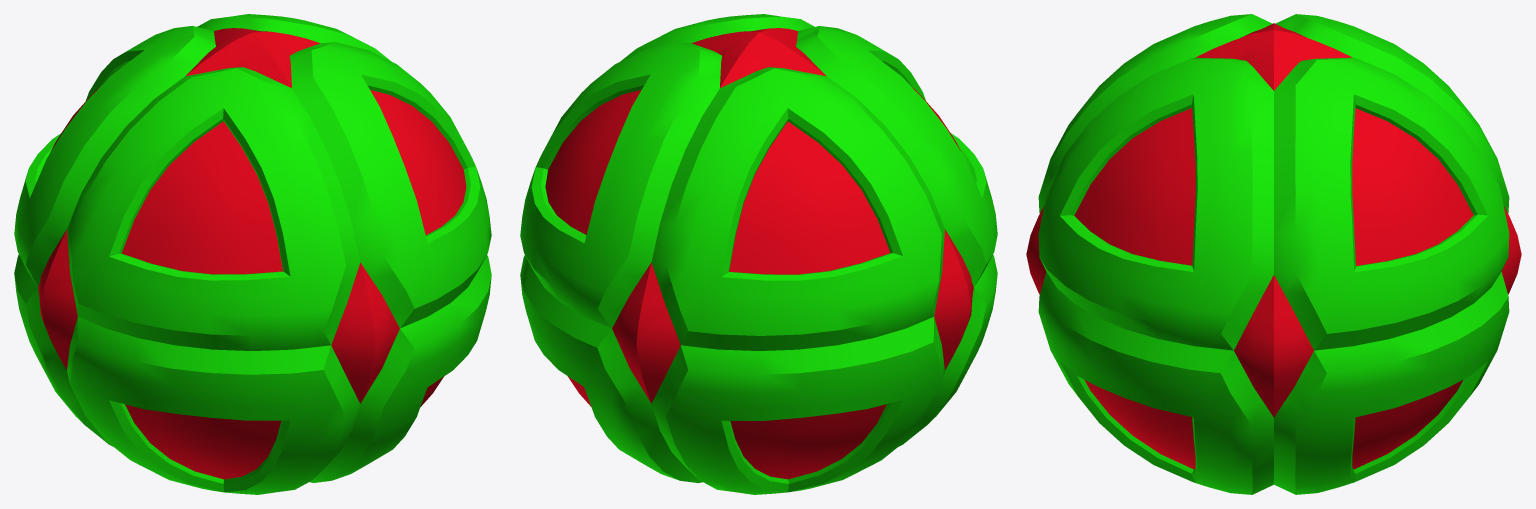
The picture shows the model from 3 angles, left to right: view 1: azimuth 30°, elevation 25°; view 2: azimuth 150°, elevation 25°; view 3: azimuth 270°, elevation 25°; orthographic projection.
Visible parts, largest first — view 1: Sphere; view 2: Sphere; view 3: Sphere.
Part boxes in pixels (x1,y1,x2,y2): Sphere: (14, 14, 491, 494); Sphere: (520, 14, 997, 494); Sphere: (1026, 14, 1521, 494).
Bounding box in the file's own units: 2.16 × 2.14 × 2.16.
